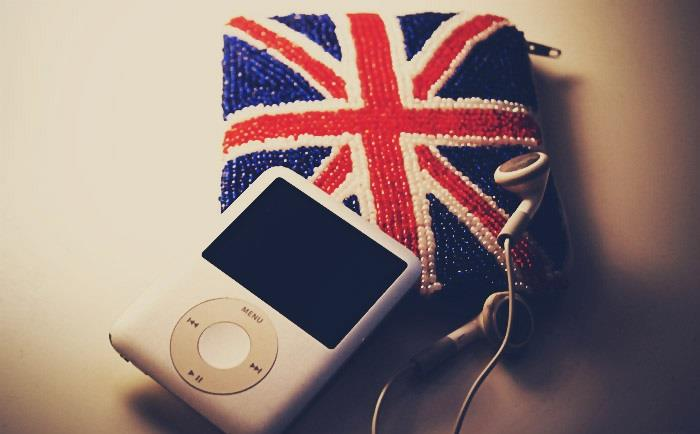UK_flag: (221, 11, 566, 291)
